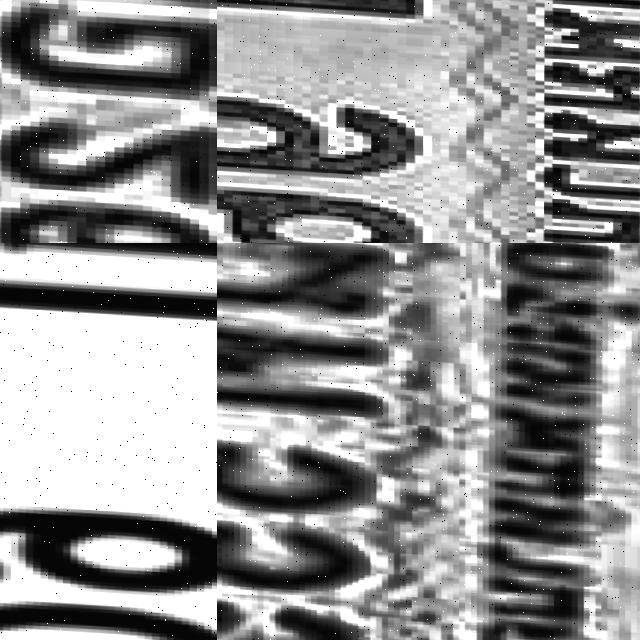license-plate: (217, 243, 640, 640), (217, 0, 640, 243), (0, 243, 217, 640), (0, 0, 217, 243)
